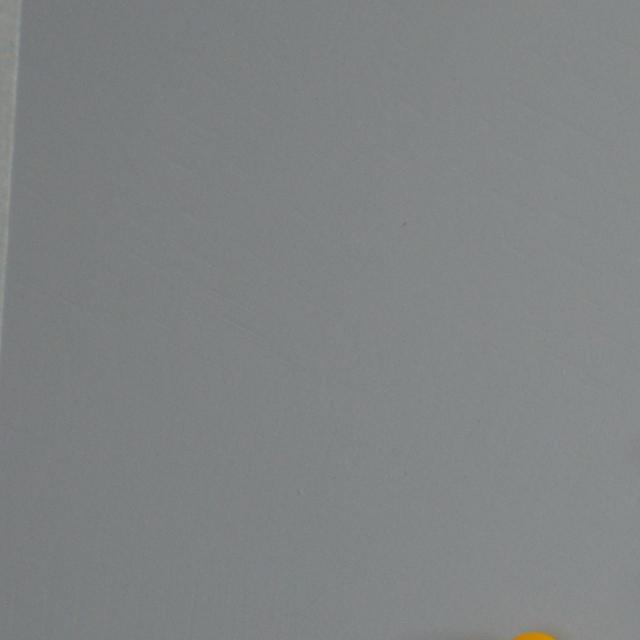no_canjicado: (480, 630, 570, 640)
